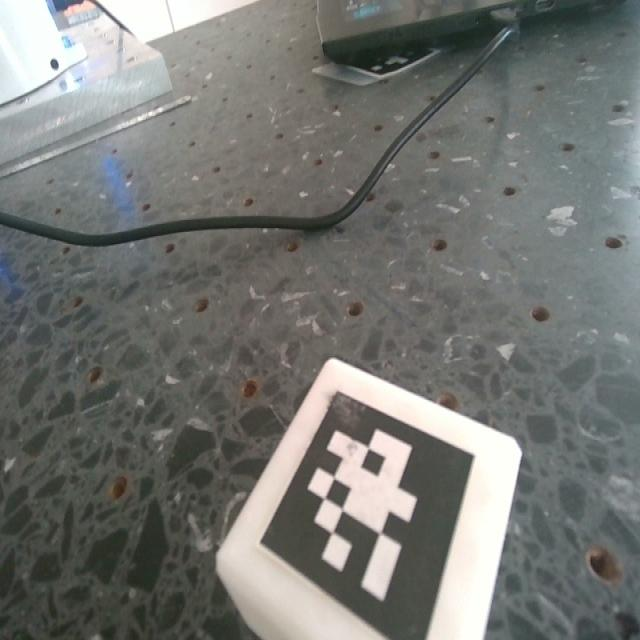Cube: (215, 359, 523, 639)
